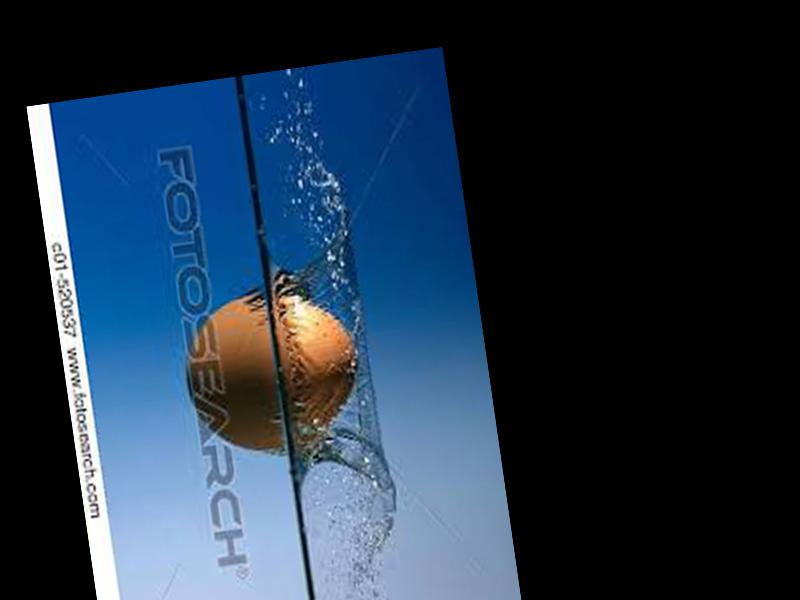Eggs: (178, 281, 369, 461)
